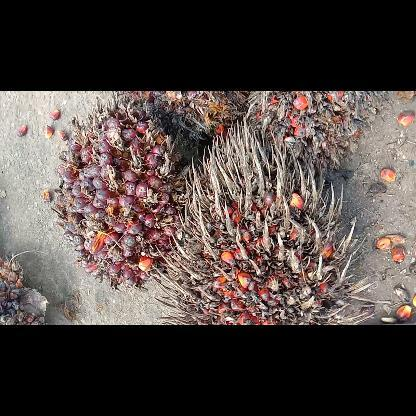TBS masak: (50, 95, 190, 287), (119, 90, 249, 154)
Terlalu masak: (152, 118, 376, 324), (246, 91, 384, 171)
